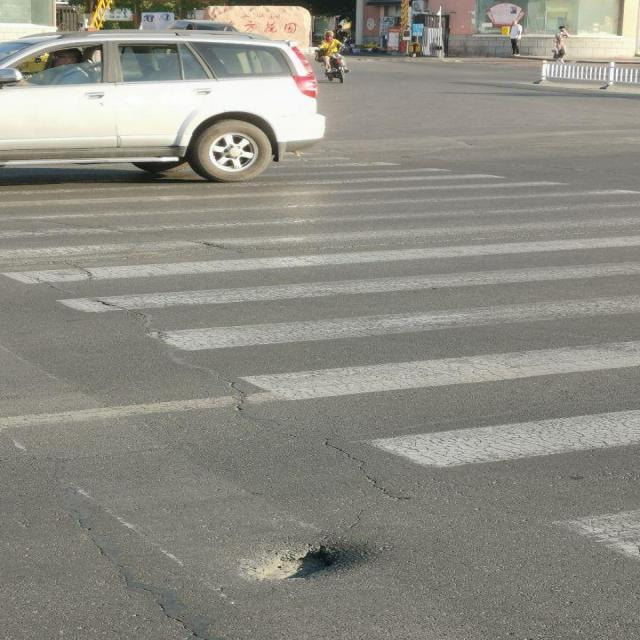Pothole: (245, 547, 340, 580)
